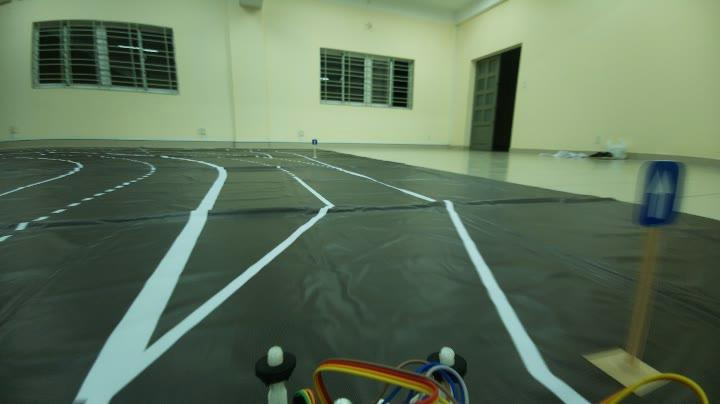onewayroad: (635, 156, 687, 231)
